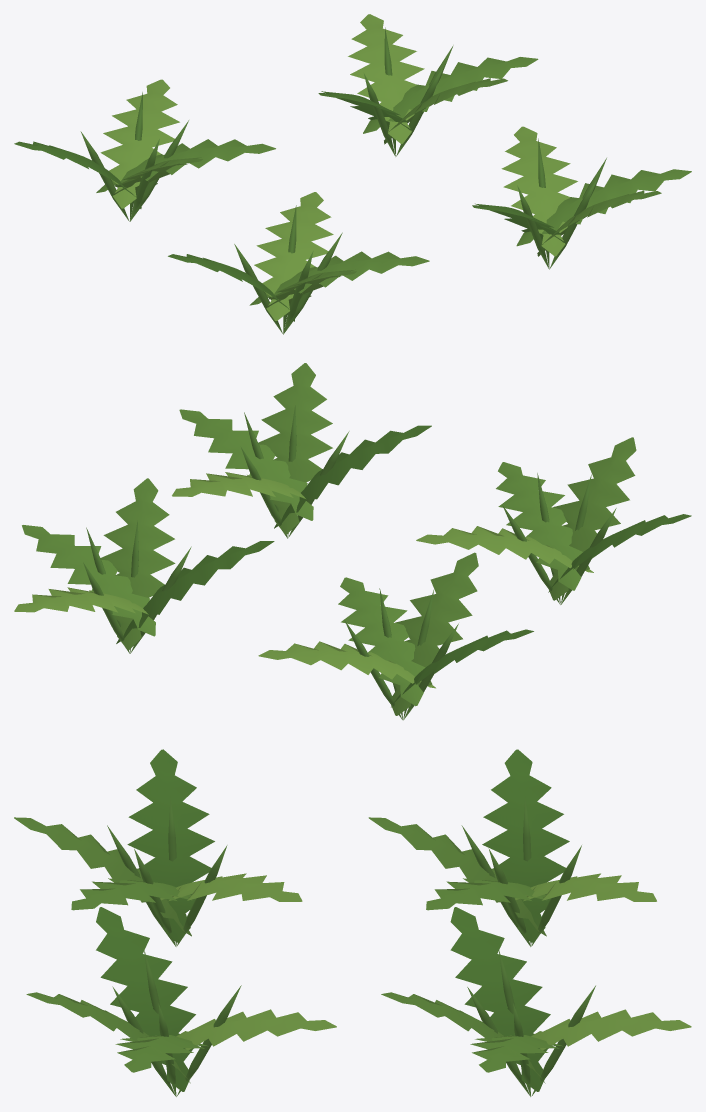
File: crop-cell-vegetable-young.gltf
3 views of the same model, one above another, from view 1: azimuth 30°, elevation 25°; view 2: azimuth 150°, elevation 25°; view 3: azimuth 270°, elevation 25° (orthographic). The views are drawn at different scales.
Visible parts, largest first — view 1: crop-cell-vegetable-young; view 2: crop-cell-vegetable-young; view 3: crop-cell-vegetable-young.
Part boxes in pixels (x1,y1,x2,y2): crop-cell-vegetable-young: [14, 14, 691, 334]; crop-cell-vegetable-young: [14, 363, 691, 720]; crop-cell-vegetable-young: [14, 749, 691, 1096].
Bounding box in the file's own units: 0.5382 × 0.113 × 0.5352.
